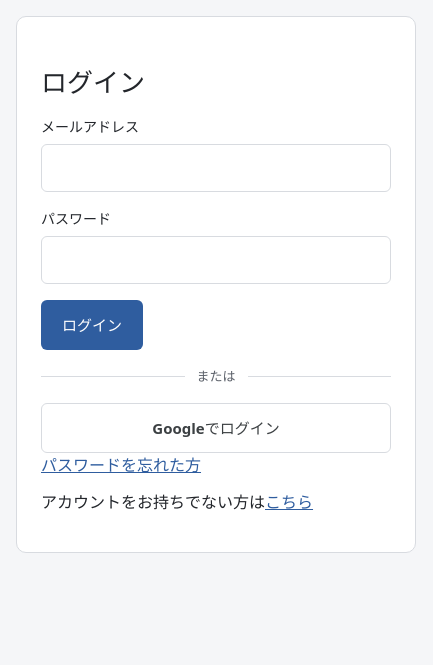
Test: LoginPage › ログイン失敗時にサーバーのエラーメッセージを表示する
expect the button "ログイン" is enabled: met, box [41, 300, 143, 350]
Type "user@example.com" into the field labelled "メールアドレス".
click(216, 168); type("user@example.com")  # box [41, 144, 391, 192]
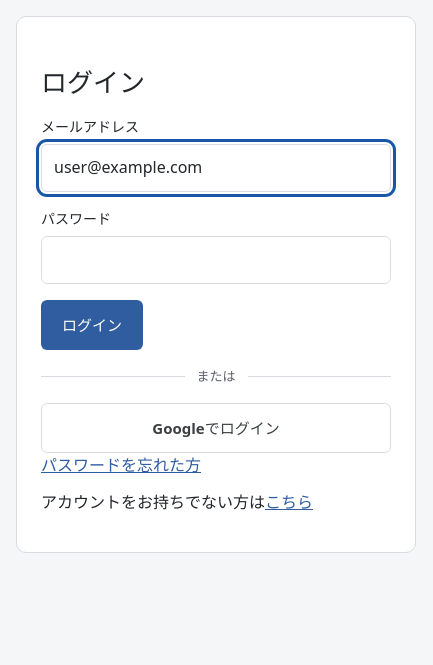
Type "WrongPassword1" into the password field labelled "パスワード".
click(216, 260); type("WrongPassword1")  # box [41, 236, 391, 284]
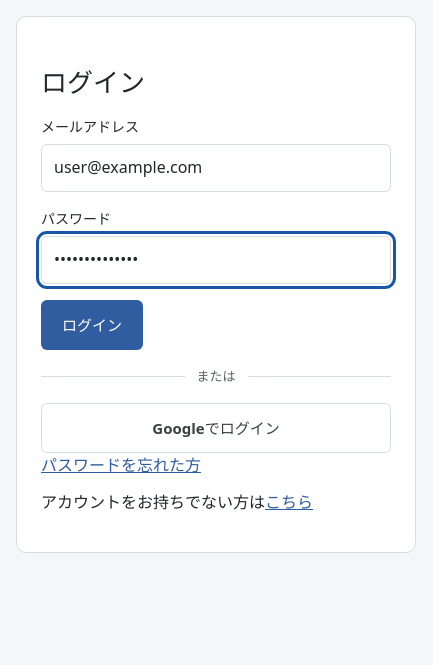
Click the button "ログイン".
click(92, 325)  # box [41, 300, 143, 350]
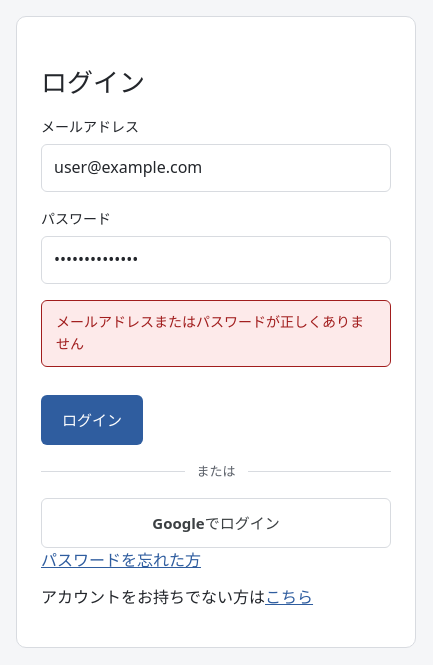
expect the message reads "メールアドレスまたはパスワードが正しくありません": met, box [56, 312, 364, 354]
